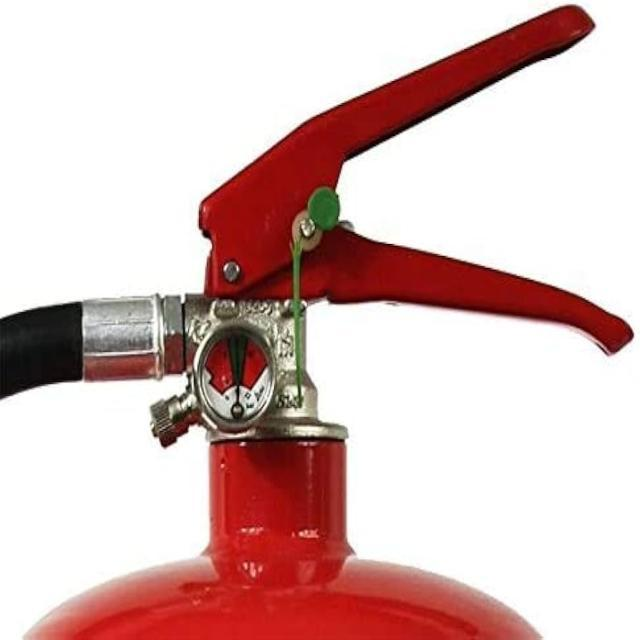pressure gauge: (196, 327, 274, 431)
